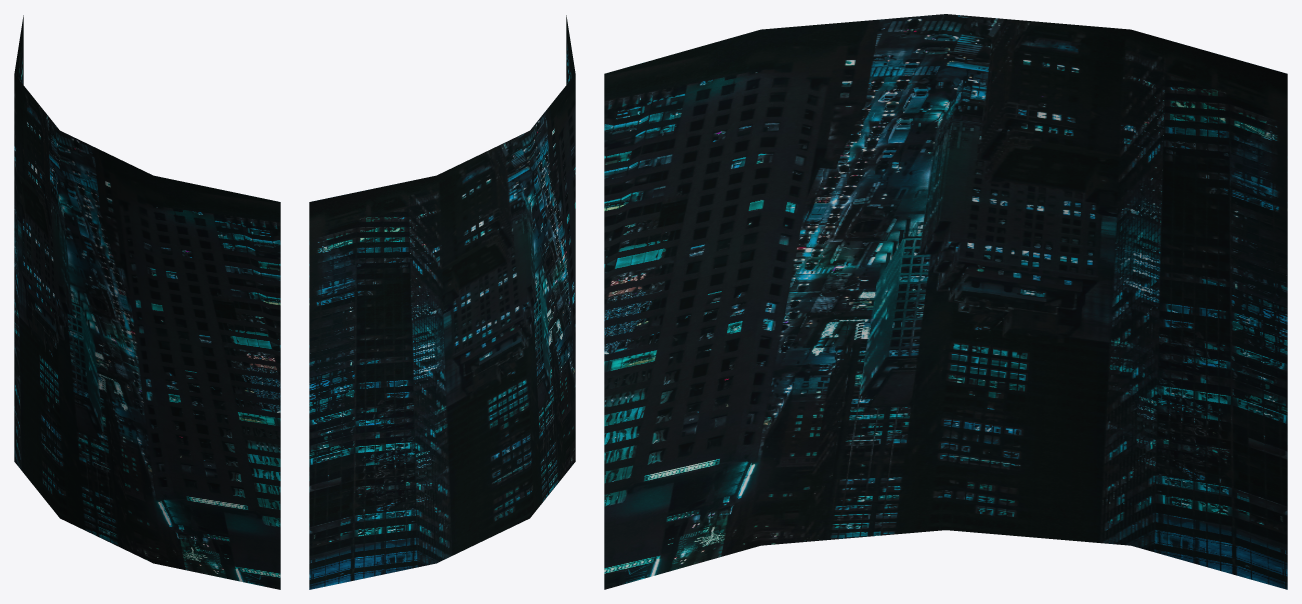
File: Carrusel.fbx
3 views of the same model, side by side, from view 1: azimuth 30°, elevation 25°; view 2: azimuth 150°, elevation 25°; view 3: azimuth 270°, elevation 25° (orthographic). The views are drawn at different scales.
Visible parts, largest first — view 1: Plane001; view 2: Plane001; view 3: Plane001.
Part boxes in pixels (left/top/right/bottom): Plane001: left=14, top=15, right=280, bottom=589; Plane001: left=309, top=15, right=575, bottom=589; Plane001: left=604, top=14, right=1287, bottom=589.
Size of the model in its own units: 149 by 600 by 720.
Materials: 1 (1 with a texture image).
